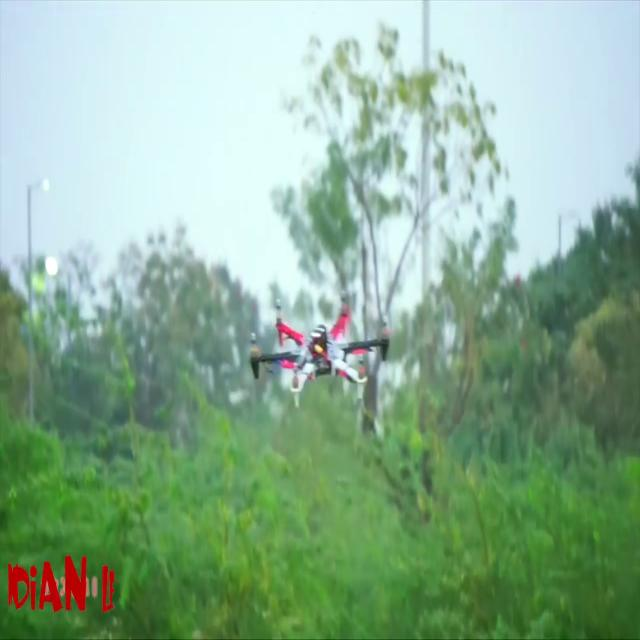drone: (235, 283, 412, 430)
